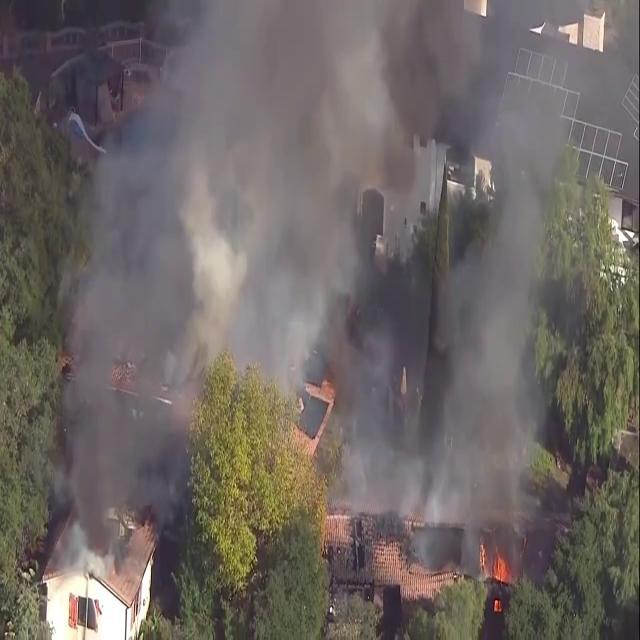Fire: (476, 536, 514, 596)
Smoke: (47, 0, 392, 543), (344, 21, 618, 573)
